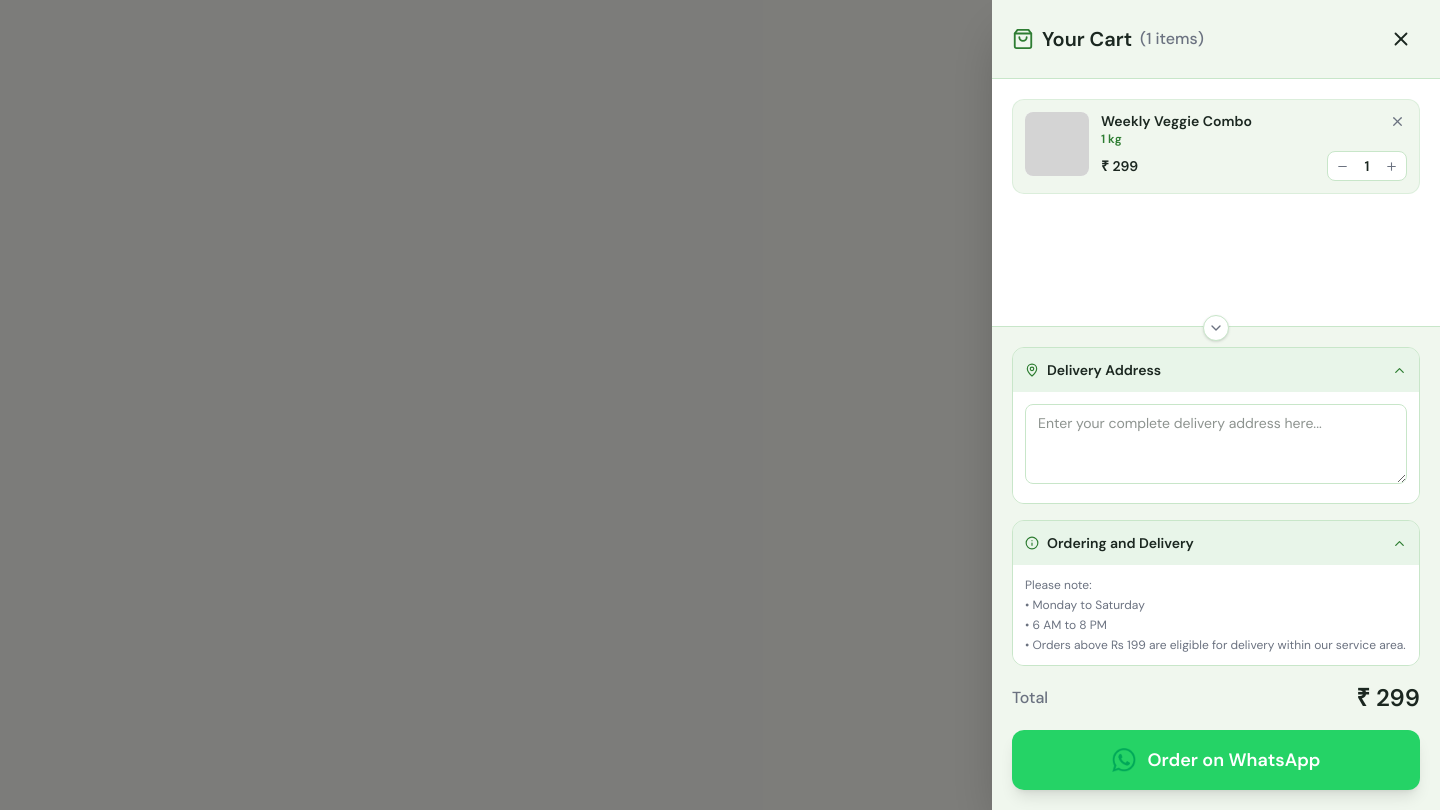
<CartSidebar> checkout flow › requires a delivery address before opening WhatsApp
Click the button "Order on WhatsApp".
click(1216, 760)  # box top-left (1012, 730), bottom-right (1420, 790)
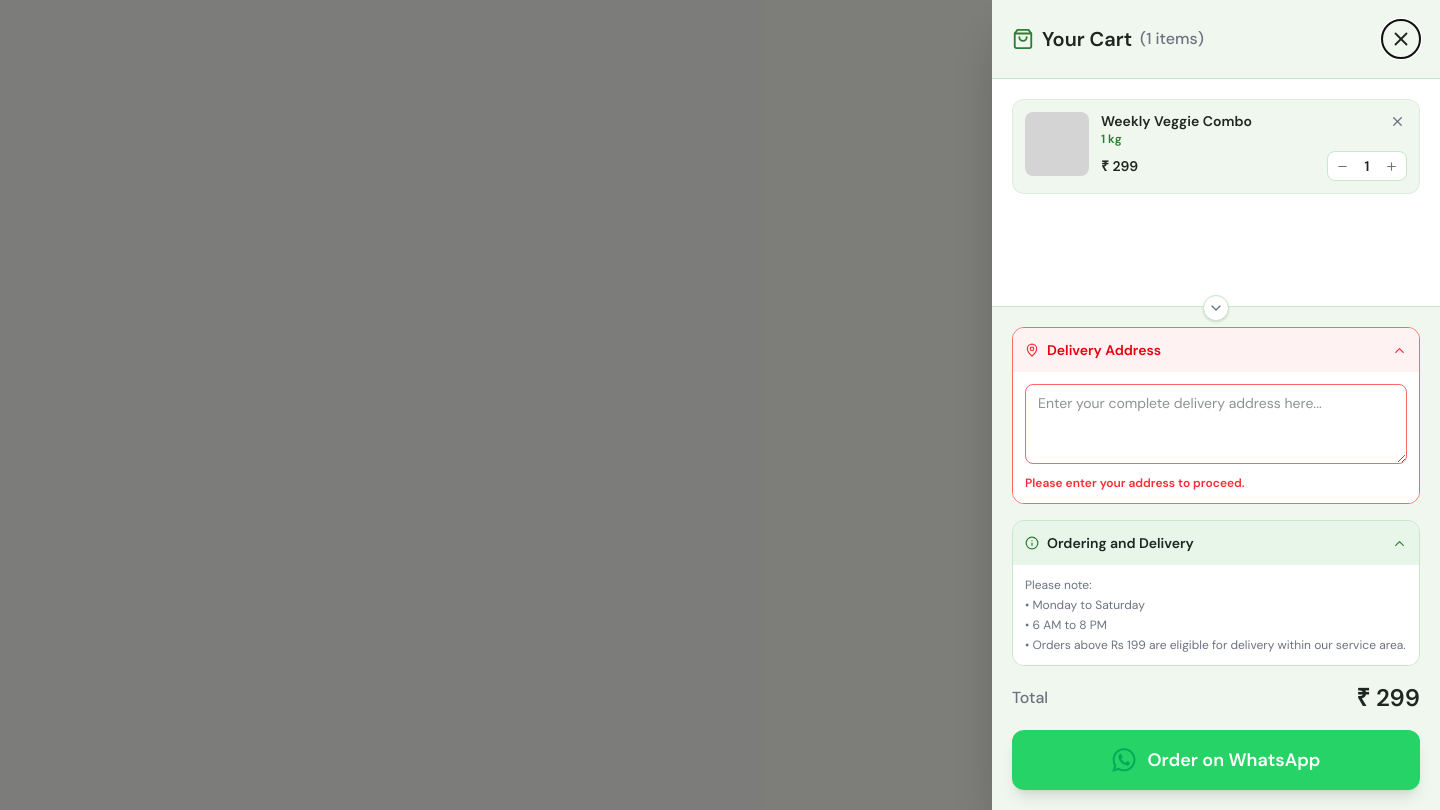
Check: the text "Please enter your address to proceed." is shown, box top-left (1025, 475), bottom-right (1245, 491)
